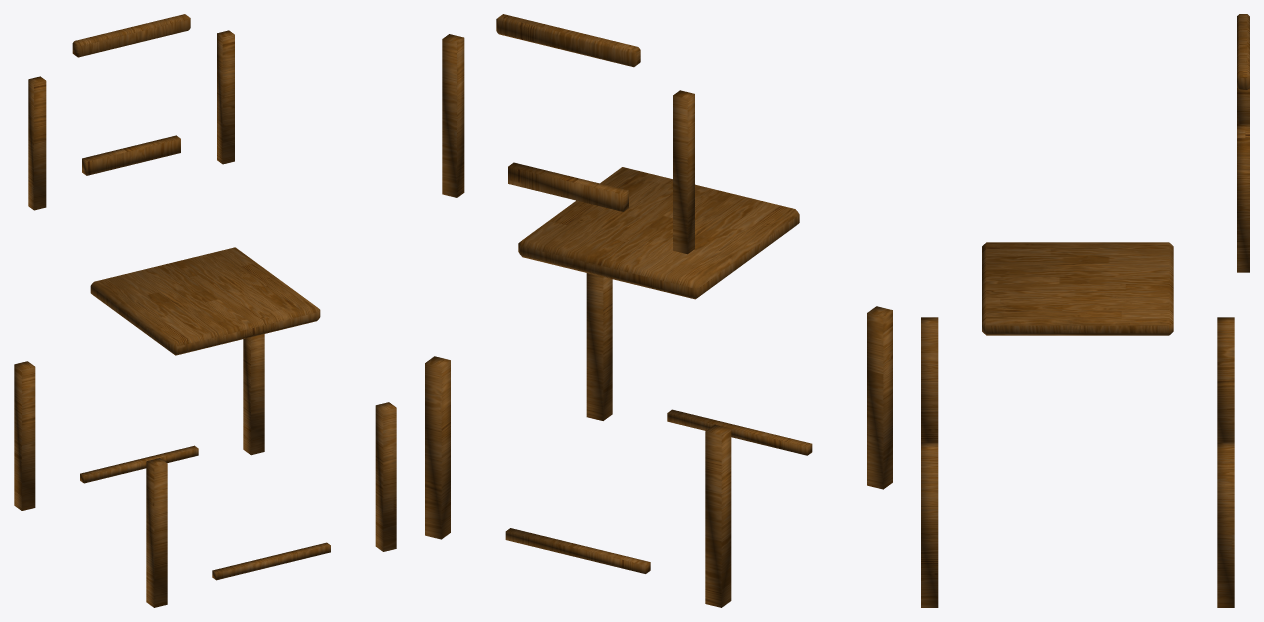
The model's file is wooden_chair.glb.
The picture shows the model from 3 angles, left to right: view 1: azimuth 30°, elevation 25°; view 2: azimuth 150°, elevation 25°; view 3: azimuth 270°, elevation 25°; orthographic projection. The views are drawn at different scales.
Parts seen in each view (by area): view 1: wooden_chair; view 2: wooden_chair; view 3: wooden_chair.
Part boxes in pixels (<box>): wooden_chair: <box>14,14,396,607</box>; wooden_chair: <box>425,14,892,607</box>; wooden_chair: <box>921,14,1249,607</box>.
Size of the model in its own units: 0.36 by 0.63 by 0.3775.
1 material, 1 textured.
